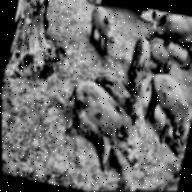boar: (49, 66, 154, 192), (125, 61, 192, 161), (94, 53, 154, 129), (141, 8, 192, 62), (75, 0, 124, 49), (125, 30, 158, 91), (146, 34, 178, 80)
